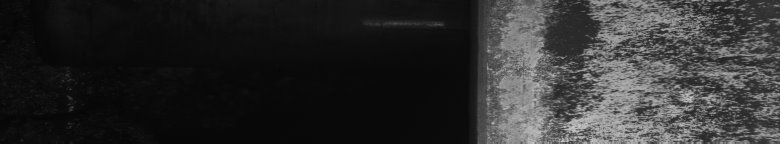kb: (488, 4, 776, 136)
